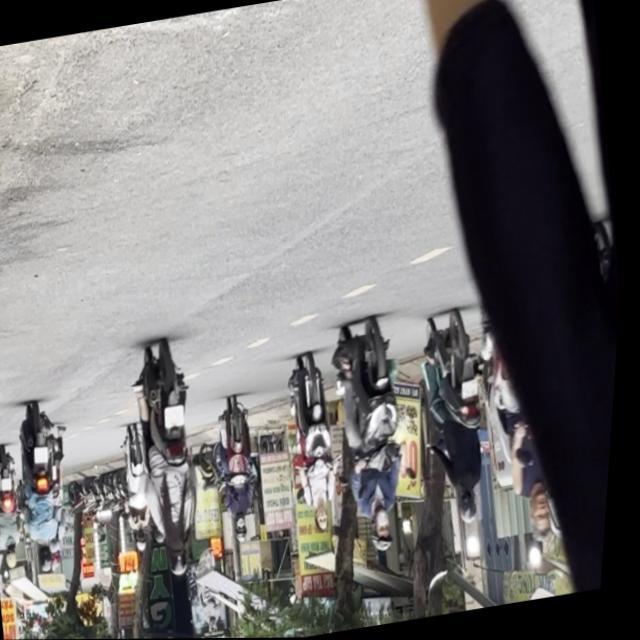helmet: (376, 510, 406, 555), (172, 536, 200, 580), (464, 491, 489, 526)
licenseplate: (322, 312, 438, 560), (122, 338, 229, 584), (412, 308, 515, 532)
nohelmet: (168, 406, 193, 429), (467, 384, 486, 402)
